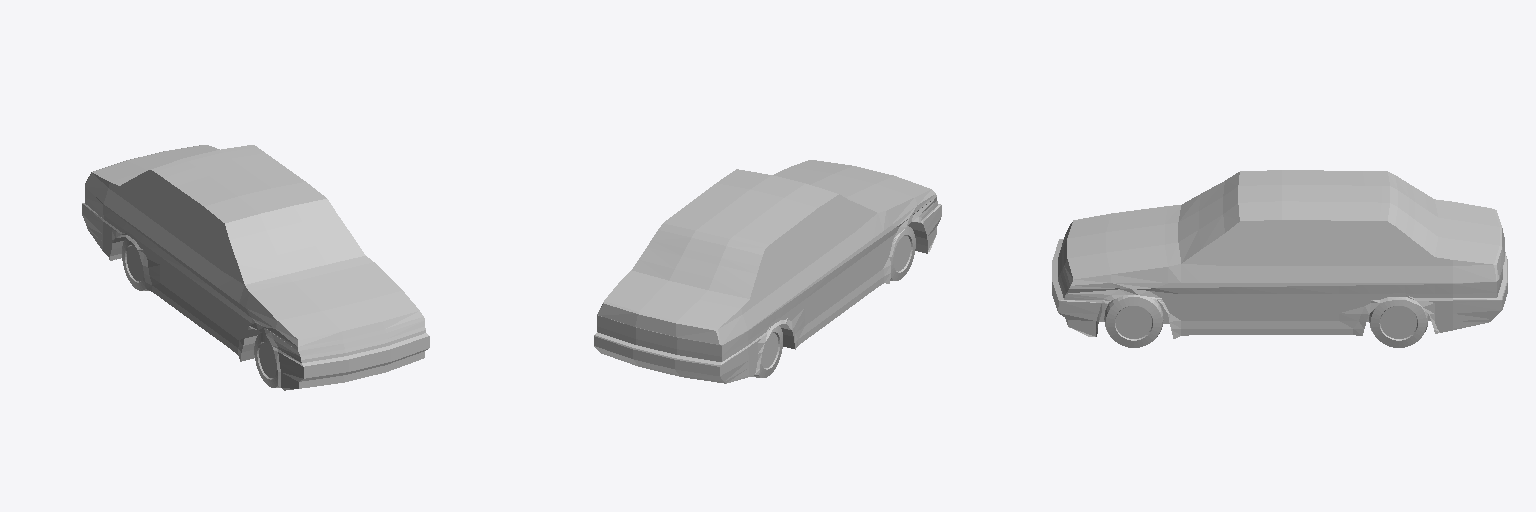
The model's file is ASM - PBR Metallic Roughness.obj.
The picture shows the model from 3 angles: view 1: azimuth 30°, elevation 25°; view 2: azimuth 150°, elevation 25°; view 3: azimuth 270°, elevation 25°; orthographic projection.
Visible parts, largest first — view 1: Плоскость, Цилиндр.003, Цилиндр.002; view 2: Плоскость, Цилиндр.003, Цилиндр.002; view 3: Плоскость, Цилиндр, Цилиндр.001.
Part boxes in pixels (left/top/right/bottom): Плоскость: left=82, top=145, right=429, bottom=390; Цилиндр.003: left=254, top=333, right=278, bottom=387; Цилиндр.002: left=122, top=238, right=148, bottom=290; Плоскость: left=594, top=160, right=941, bottom=383; Цилиндр.003: left=890, top=226, right=915, bottom=280; Цилиндр.002: left=751, top=326, right=782, bottom=377; Плоскость: left=1052, top=170, right=1507, bottom=338; Цилиндр: left=1104, top=295, right=1163, bottom=347; Цилиндр.001: left=1369, top=300, right=1428, bottom=347.
Size of the model in its own units: 216 by 189 by 620.